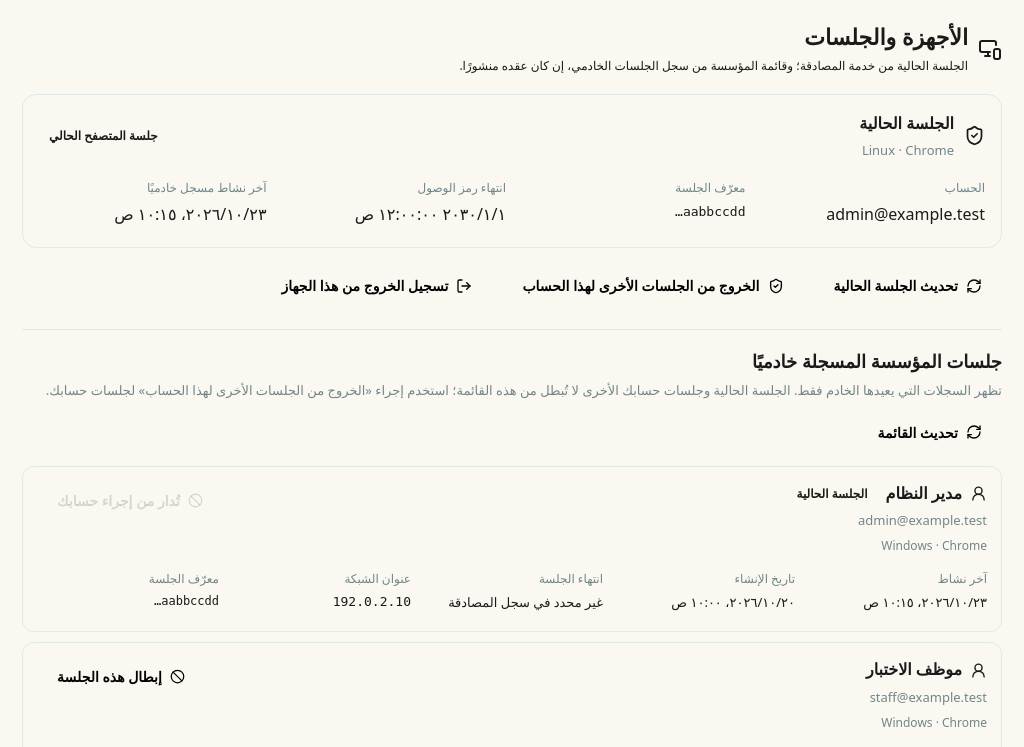
central device and session management › does not report bulk revocation success when the server acknowledgement is malformed
What coordinates should you click on to do the following:
click the button with aria-label "تسجيل الخروج من الأجهزة الأخرى"
I would click on:
 (653, 286)
Its box is [502,266,804,305].
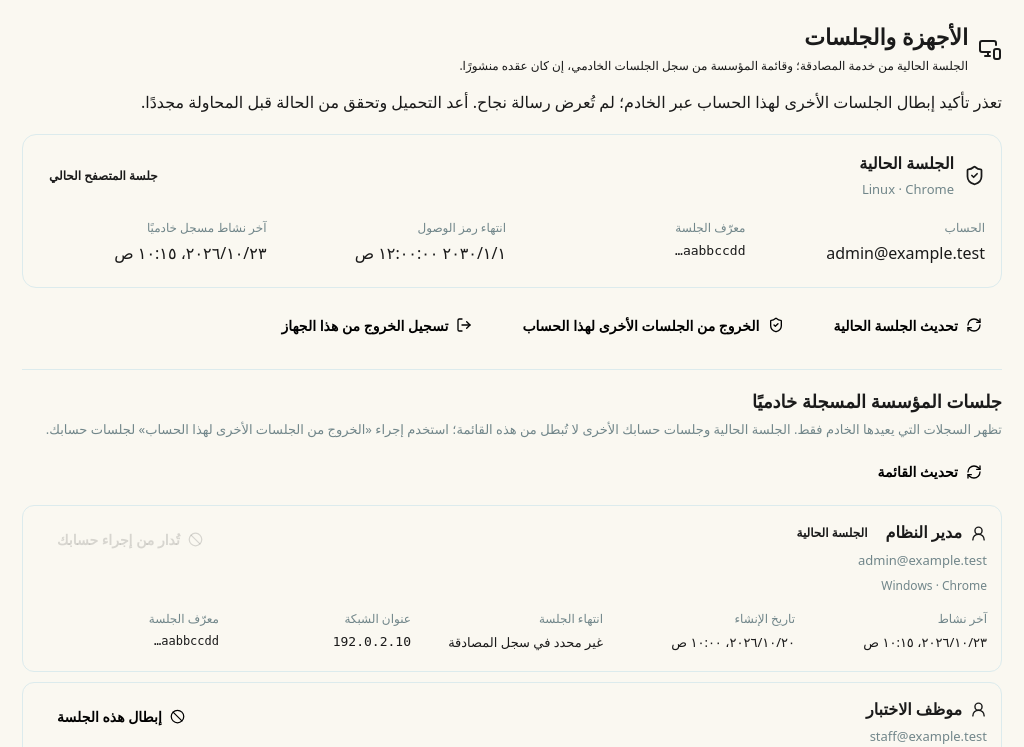
expect the message shows "تعذر تأكيد إبطال الجلسات الأخرى لهذا الحساب عبر الخادم": met, box [141,91,1002,113]
